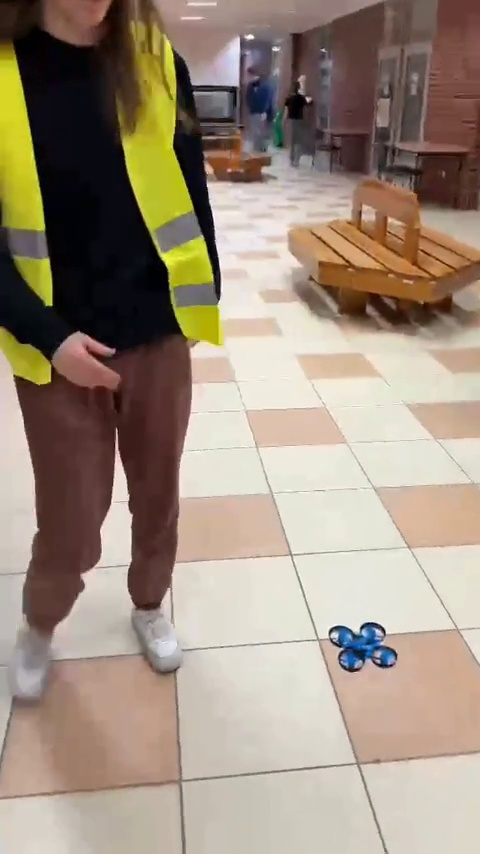drone: (327, 619, 390, 665)
no vest: (237, 58, 272, 161), (278, 70, 312, 156)
vest: (0, 0, 240, 689)
